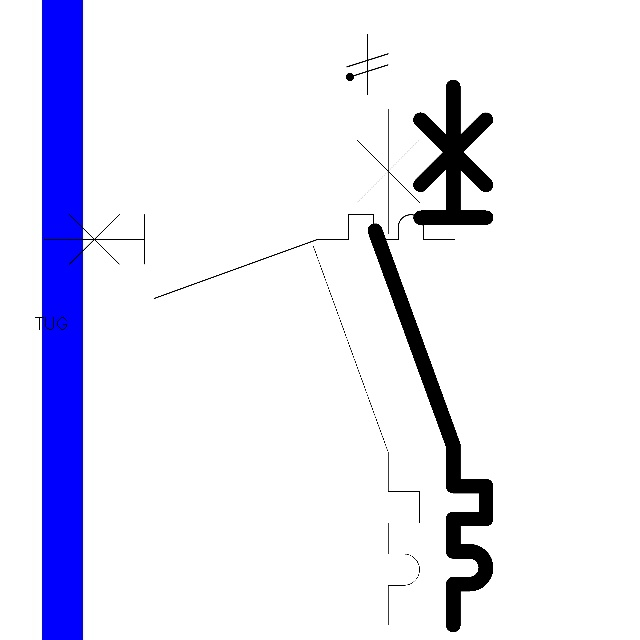interruptor_termomagnetico: (361, 73, 500, 639), (300, 95, 433, 638), (34, 204, 465, 309)
